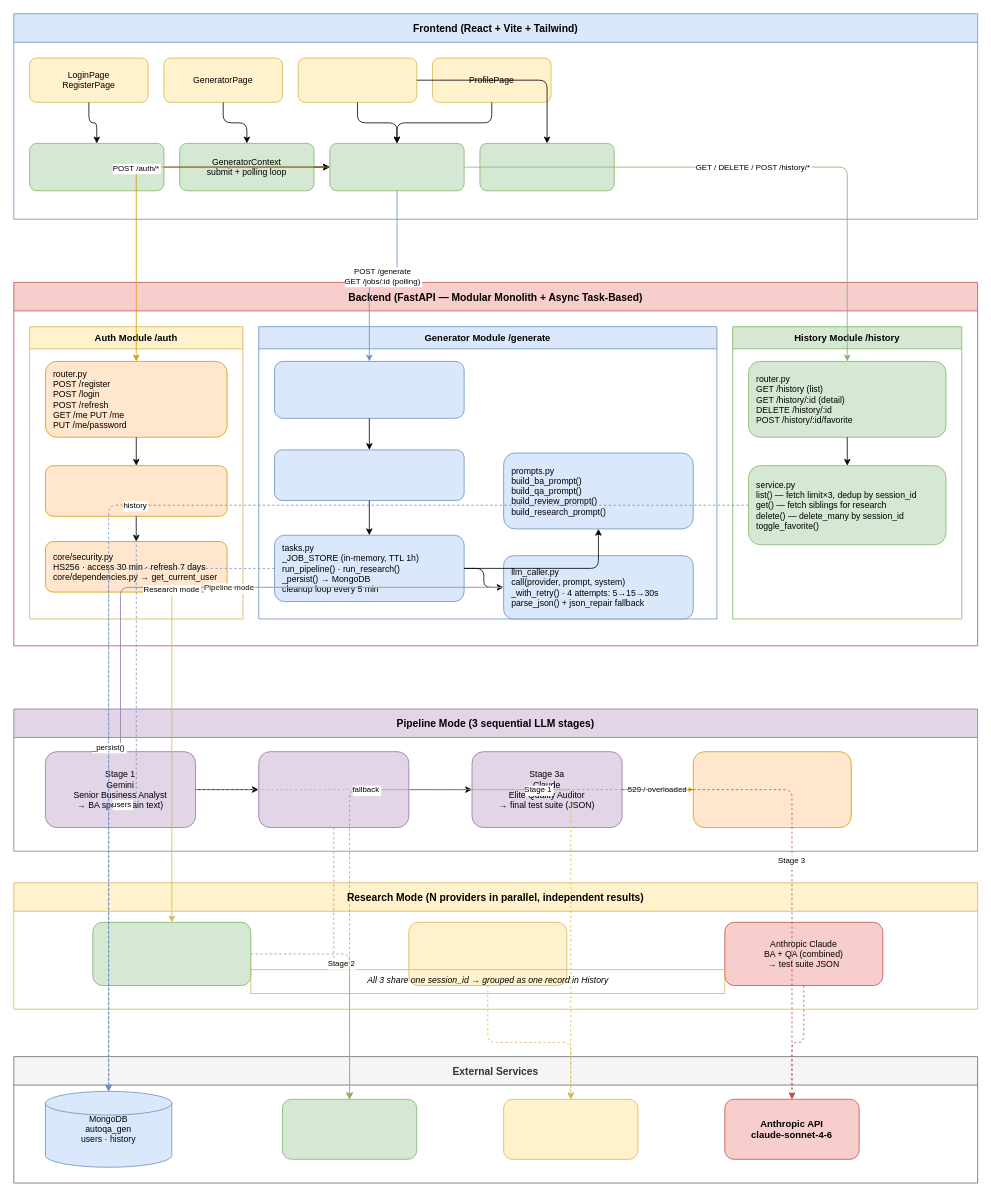
This 991x1197 diagram has some shape labels left out. The centre of each missing label's shape, as x and y in pixels:
"AuthContext JWT store + auto-refresh" belongs at pixel 96 167.
"Google Gemini API gemini-2.0-flash" belongs at pixel 570 1128.
"Google Gemini BA + QA (combined) → test suite JSON" belongs at pixel 487 954.
"HistoryPage" belongs at pixel 357 79.
"lib/api.ts fetch + 401 auto-refresh" belongs at pixel 396 167.
"lib/export.ts JSON / Excel download" belongs at pixel 546 167.
"OpenAI API gpt-4o" belongs at pixel 349 1128.
"OpenAI GPT-4o BA + QA (combined) → test suite JSON" belongs at pixel 171 954.
"router.py POST /generate → 202 (job queued) GET /generate/jobs/:id (poll)" belongs at pixel 369 389.
"service.py hash / verify password issue JWT tokens" belongs at pixel 136 490.
"service.py submit() → create_job + dispatch() get_status() → read JobState" belongs at pixel 369 474.
"Stage 2 GPT-4o Senior QA Engineer → draft test cases (JSON)" belongs at pixel 333 789.
"Stage 3b — fallback GPT-4o Elite Quality Auditor → final test suite (JSON)" belongs at pixel 771 789.
